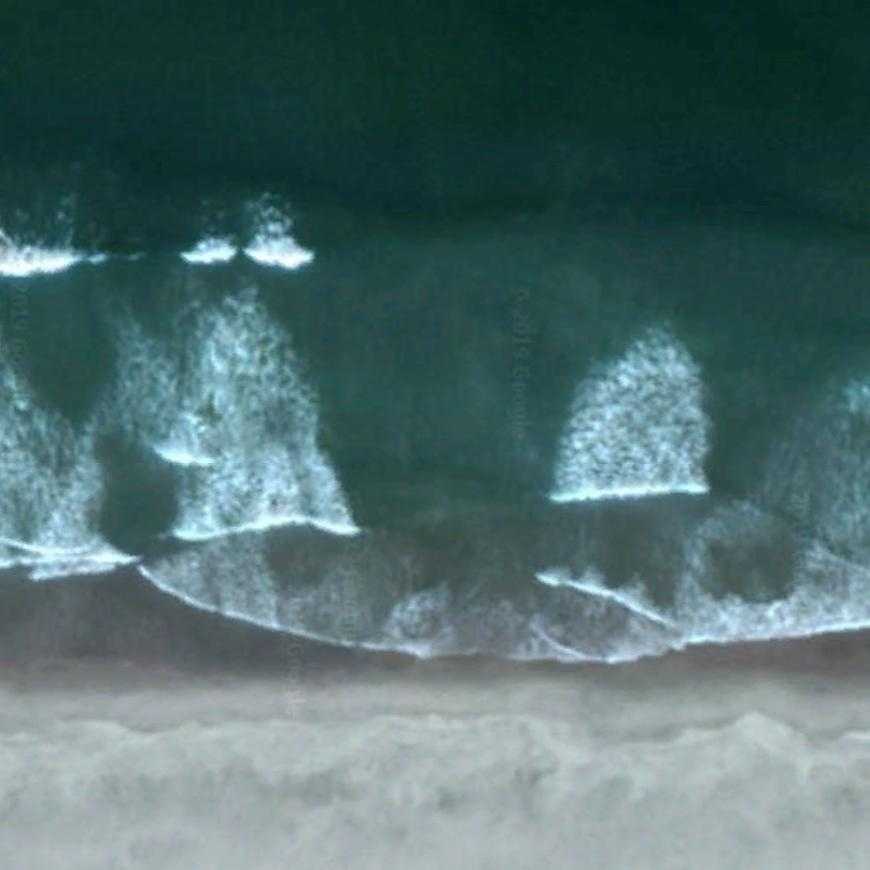rip_current: (239, 198, 624, 607)
